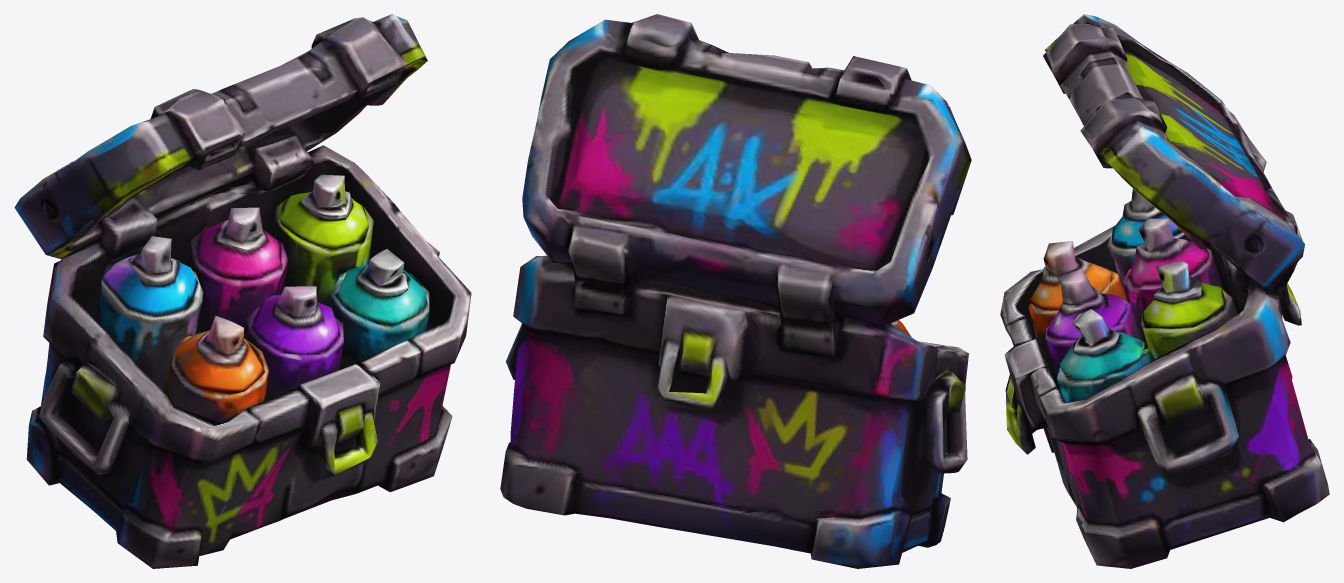
File: GW_INT_spray_stash.glb
3 views of the same model, side by side, from view 1: azimuth 30°, elevation 25°; view 2: azimuth 150°, elevation 25°; view 3: azimuth 270°, elevation 25° (orthographic). The views are drawn at different scales.
Parts seen in each view (by area): view 1: tripo_node_79976bc4-e17a-4b8e-8ad8-57f4b9764505; view 2: tripo_node_79976bc4-e17a-4b8e-8ad8-57f4b9764505; view 3: tripo_node_79976bc4-e17a-4b8e-8ad8-57f4b9764505.
Boxes of the visible parts, x1,y1,x2,y2 form: tripo_node_79976bc4-e17a-4b8e-8ad8-57f4b9764505: (14,14,471,568); tripo_node_79976bc4-e17a-4b8e-8ad8-57f4b9764505: (500,14,971,568); tripo_node_79976bc4-e17a-4b8e-8ad8-57f4b9764505: (1000,14,1329,568).
Size of the model in its own units: 0.9012 by 1 by 0.6744.
Materials: 1 (1 with a texture image).
